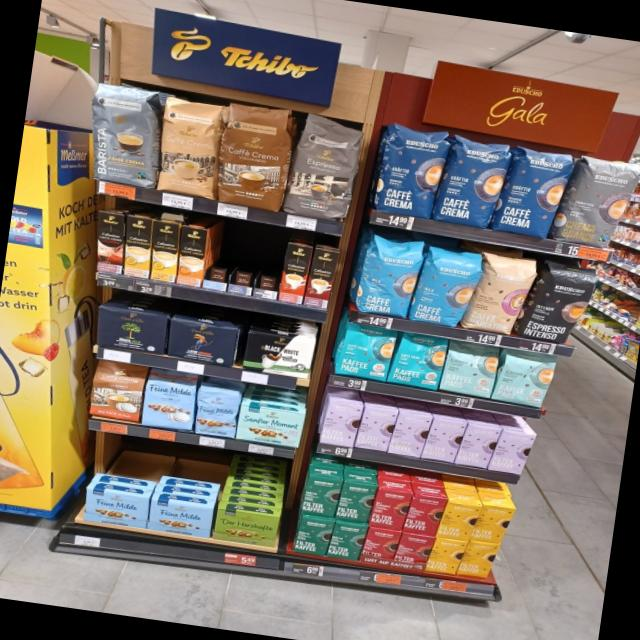BM Gemahlen: (93, 305, 170, 357)
BW Gemahlen: (240, 328, 316, 380)
Barista CC: (82, 78, 166, 188)
CC Mild: (152, 94, 228, 200)
CC Vollmundig: (86, 358, 148, 424)
CC Vollmundig 36 Pads: (210, 100, 296, 214)
Empty Shelf: (230, 233, 264, 288), (204, 228, 235, 283), (256, 236, 286, 292)
Espresso Aromatisch: (289, 112, 363, 224)
FM 36 Pads: (141, 368, 202, 433)
FM Bohne: (192, 384, 242, 439)
FM Gemahlen: (80, 486, 152, 530), (147, 496, 215, 540)
Herzhatfe Mundig: (212, 507, 280, 551)
LG Gemahlen: (165, 317, 241, 367)
SM Gemahlen: (236, 403, 306, 448)
Simo CC Colombia: (97, 211, 123, 274)
Simo CCMild bigpack: (150, 220, 180, 283)
Simo CCVollmundig bigpack: (176, 224, 208, 287)
Simo Decaff: (125, 214, 152, 278)
Simo Es Brazil: (278, 242, 313, 306)
Simo Es Caramel: (303, 247, 341, 309)
